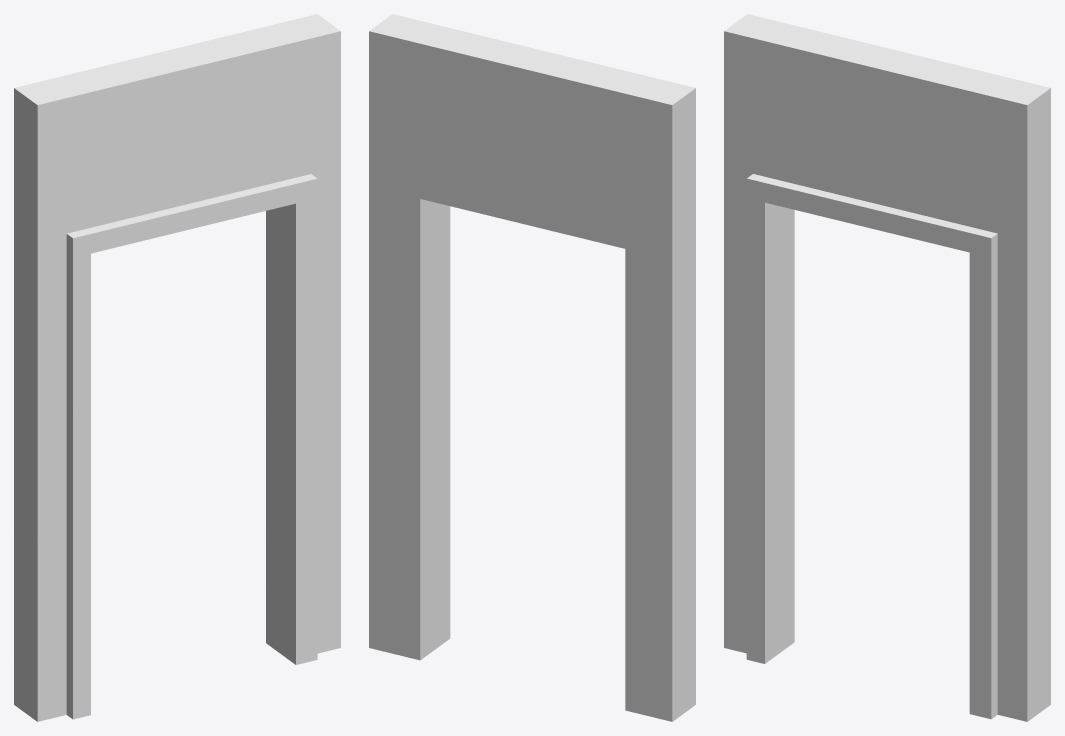
File: option_plum.fbx
3 renders of one model, left to right at view 1: azimuth 30°, elevation 25°; view 2: azimuth 150°, elevation 25°; view 3: azimuth 330°, elevation 25°, orthographic.
Visible parts, largest first — view 1: door_frame1, vote_colour; view 2: door_frame1, vote_colour; view 3: door_frame1, vote_colour.
Boxes of the visible parts, <box> form: door_frame1: <box>14,14,340,721</box>; vote_colour: <box>66,174,317,719</box>; door_frame1: <box>369,14,695,721</box>; vote_colour: <box>420,199,450,659</box>; door_frame1: <box>724,14,1050,721</box>; vote_colour: <box>746,174,997,719</box>.
Bounding box in the file's own units: 295 × 573 × 50.26.
